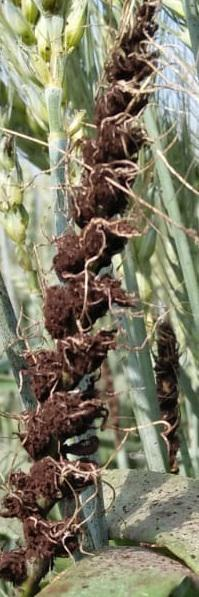Wheat: (74, 187, 118, 223), (28, 520, 74, 551), (100, 115, 138, 151), (103, 81, 140, 108), (56, 247, 97, 271), (82, 157, 126, 179), (69, 337, 95, 374), (27, 352, 59, 382), (35, 462, 78, 484), (47, 290, 72, 326), (26, 411, 82, 427), (160, 330, 178, 377), (0, 554, 29, 583), (111, 50, 148, 70), (82, 284, 105, 314), (130, 12, 153, 40), (21, 434, 49, 457), (3, 494, 35, 514), (44, 392, 80, 406), (162, 386, 178, 417), (70, 231, 100, 243), (172, 428, 178, 454), (13, 475, 23, 484)
